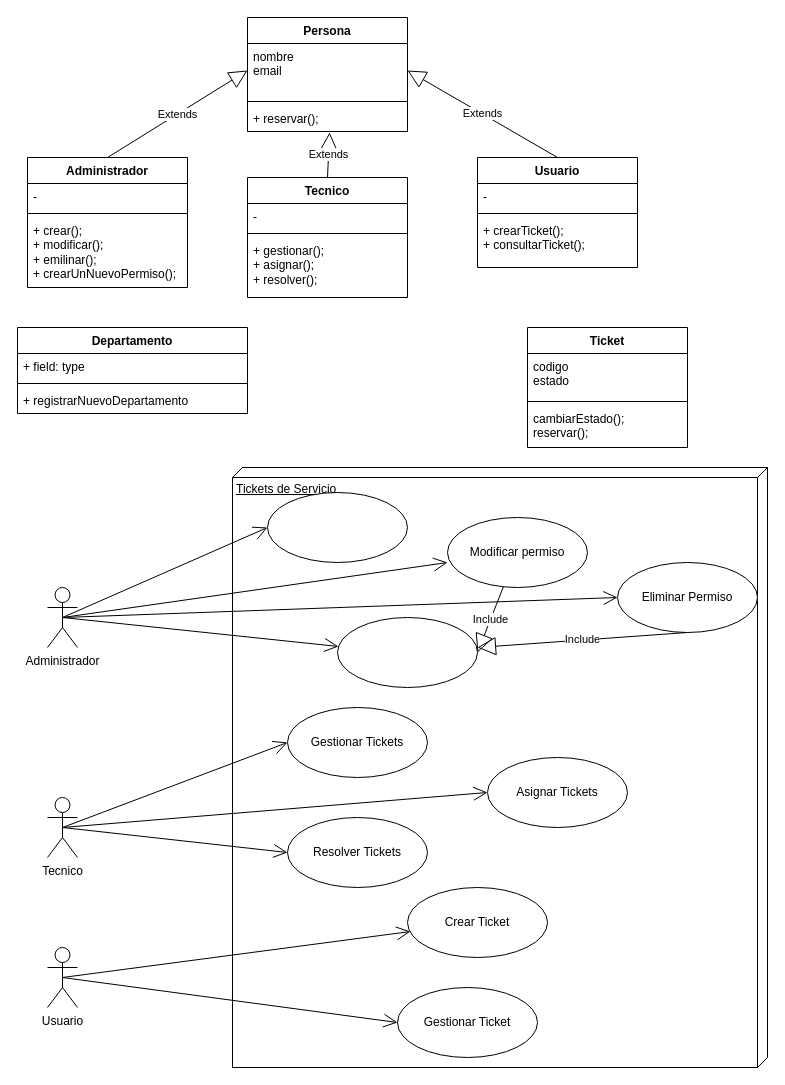
The diagram is 785 pixels wide and 1085 high, and some of its shapes have lost their labels. Each missing label, with the centre of its shape:
Crear un nuevo permiso: the point at 407,652
Crear un nuevo usuario: the point at 337,527
